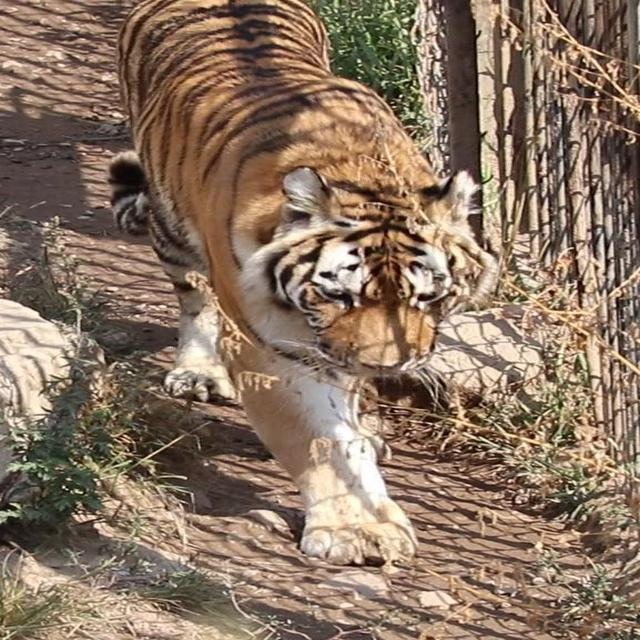tiger: (104, 0, 503, 567)
